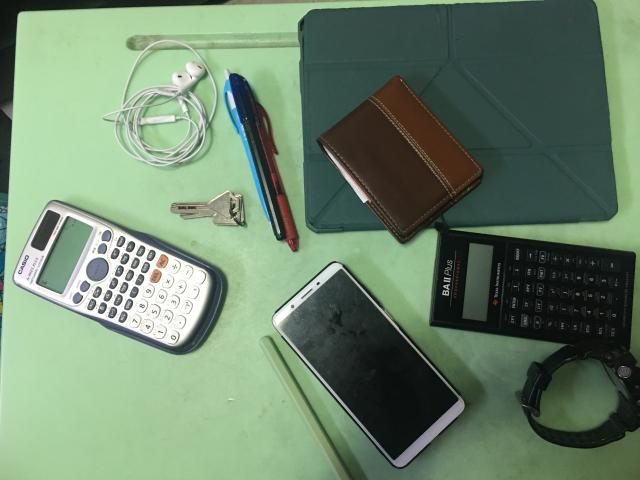Keys: (171, 191, 245, 225)
Mobile phone: (272, 262, 464, 468)
Pen: (224, 72, 297, 249)
Wallet: (316, 76, 484, 244)
Watch: (516, 339, 640, 449)
wire: (103, 43, 220, 171)
